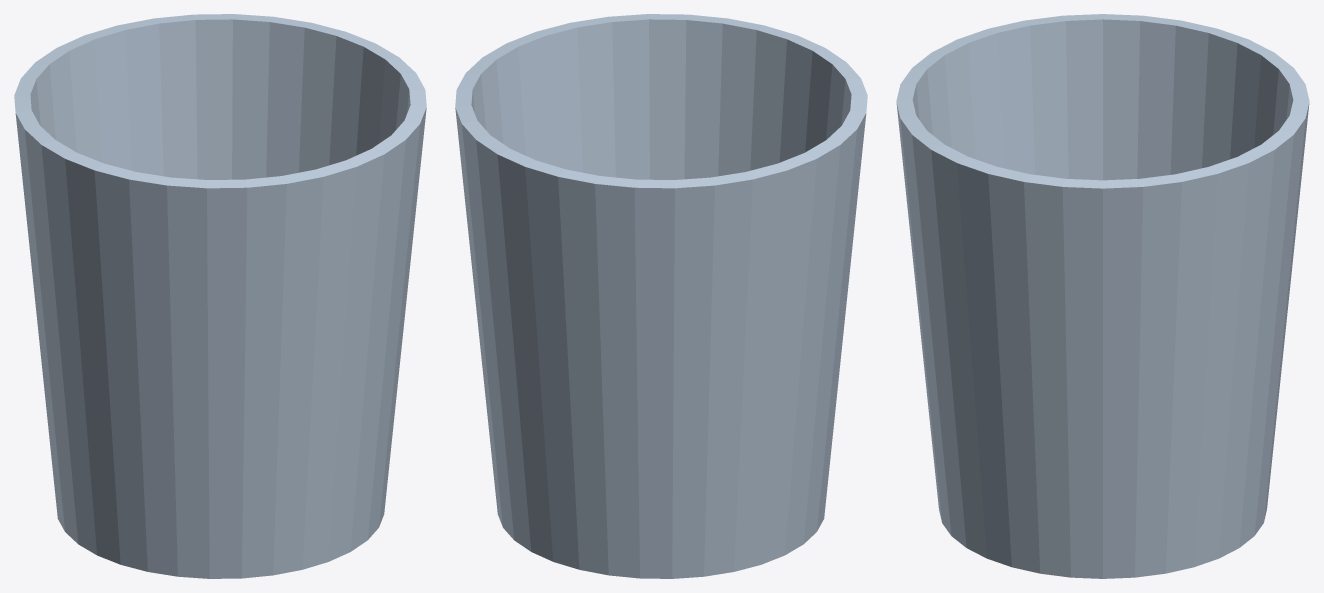
The model's file is cup.glb.
The picture shows the model from 3 angles, left to right: view 1: azimuth 30°, elevation 25°; view 2: azimuth 150°, elevation 25°; view 3: azimuth 270°, elevation 25°; orthographic projection.
Visible parts, largest first — view 1: cup; view 2: cup; view 3: cup.
Boxes of the visible parts, x1,y1,x2,y2 form: cup: (14,14,426,578); cup: (455,14,867,578); cup: (896,14,1309,578).
Bounding box in the file's own units: 0.1835 × 0.2008 × 0.1835.
